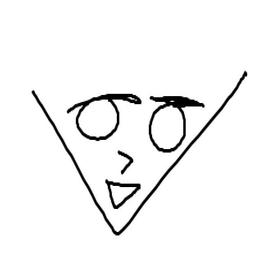empty_eye: (73, 94, 124, 145), (145, 102, 187, 156)
open_mouth: (106, 181, 140, 212)
pointy_nose: (112, 149, 135, 176)
